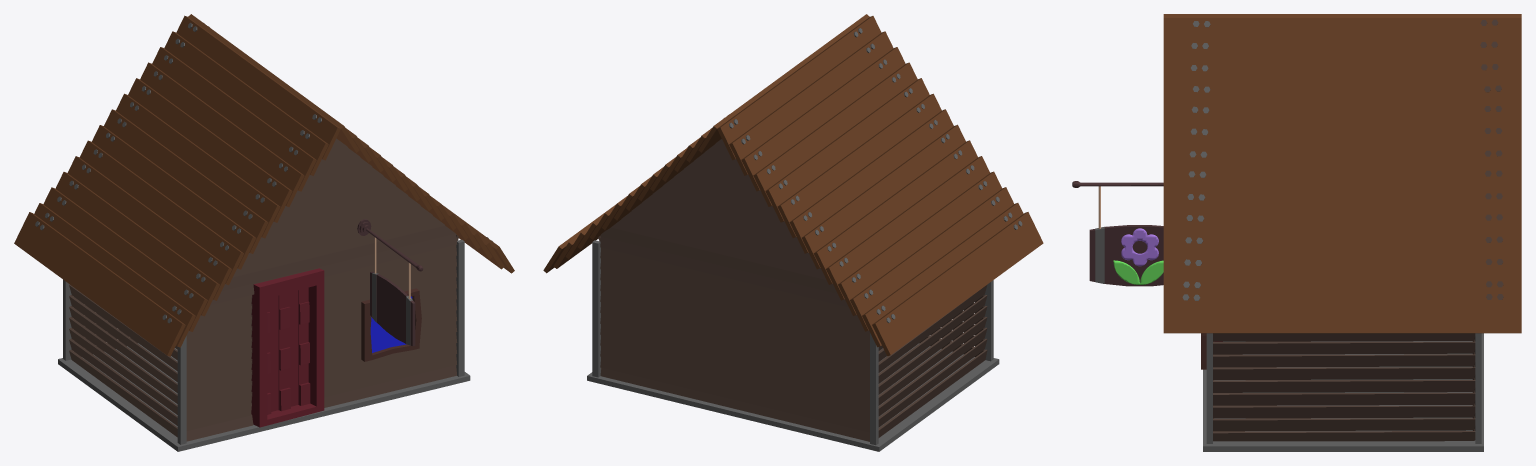
File: CasaFlor.fbx
3 views of the same model, side by side, from view 1: azimuth 30°, elevation 25°; view 2: azimuth 150°, elevation 25°; view 3: azimuth 270°, elevation 25° (orthographic). The views are drawn at different scales.
Visible parts, largest first — view 1: CasaFlor, PortaFlor; view 2: CasaFlor; view 3: CasaFlor.
Boxes of the visible parts, <box> form: CasaFlor: <box>14,14,514,451</box>; PortaFlor: <box>251,268,324,427</box>; CasaFlor: <box>543,14,1043,451</box>; CasaFlor: <box>1072,14,1521,451</box>.
Size of the model in its own units: 571 by 473 by 546.
